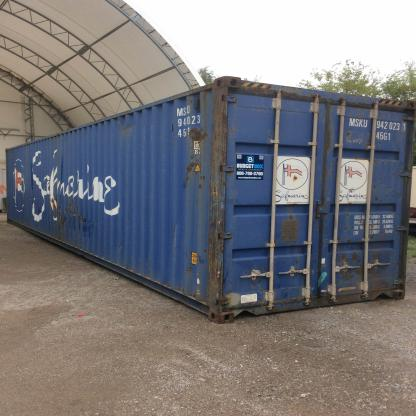Damage: (204, 89, 230, 322), (334, 251, 390, 291), (48, 193, 100, 236), (180, 127, 206, 202), (334, 212, 386, 242), (321, 110, 333, 207), (280, 88, 336, 108), (179, 255, 203, 298), (248, 266, 278, 294), (364, 182, 394, 200), (110, 116, 138, 134), (170, 223, 180, 256), (286, 168, 304, 186), (282, 206, 300, 223), (288, 253, 306, 269), (364, 133, 382, 149), (51, 152, 78, 162), (344, 124, 352, 148), (76, 244, 94, 254), (12, 216, 30, 226), (144, 256, 152, 276), (112, 242, 126, 250), (26, 196, 36, 204), (119, 262, 130, 268), (146, 192, 154, 198), (202, 247, 206, 254)
